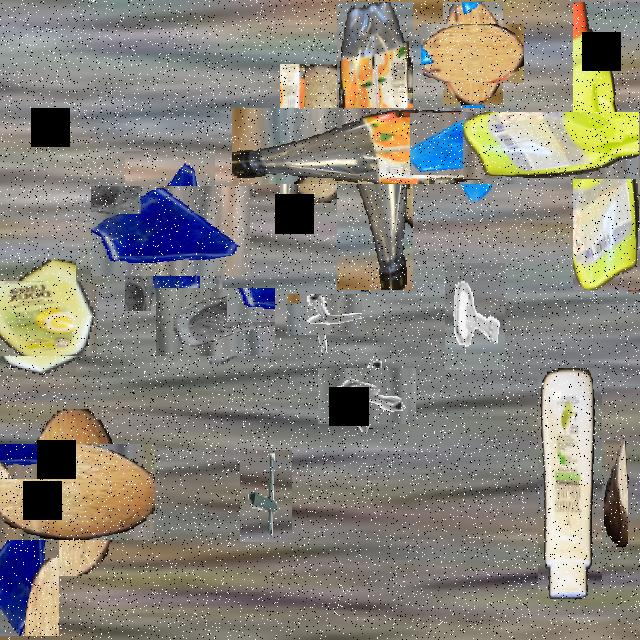glass: (108, 168, 232, 294), (168, 275, 262, 369), (0, 498, 59, 636), (421, 101, 507, 187), (639, 263, 640, 381)
metal: (445, 263, 505, 370), (328, 358, 406, 435), (240, 450, 292, 542), (296, 285, 354, 344)
plastic: (284, 55, 466, 237), (517, 57, 640, 234), (538, 368, 602, 599), (0, 269, 86, 366)
wood: (6, 427, 138, 558), (280, 64, 362, 203), (432, 13, 514, 94), (604, 441, 628, 547)
